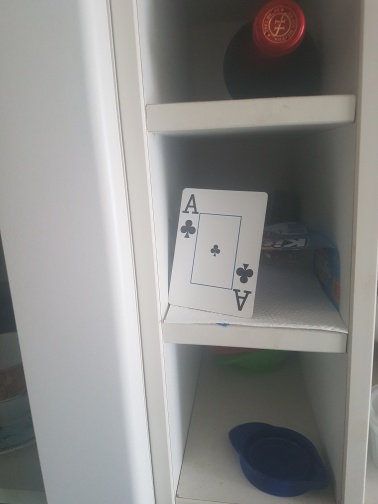ace: (166, 186, 268, 319)
